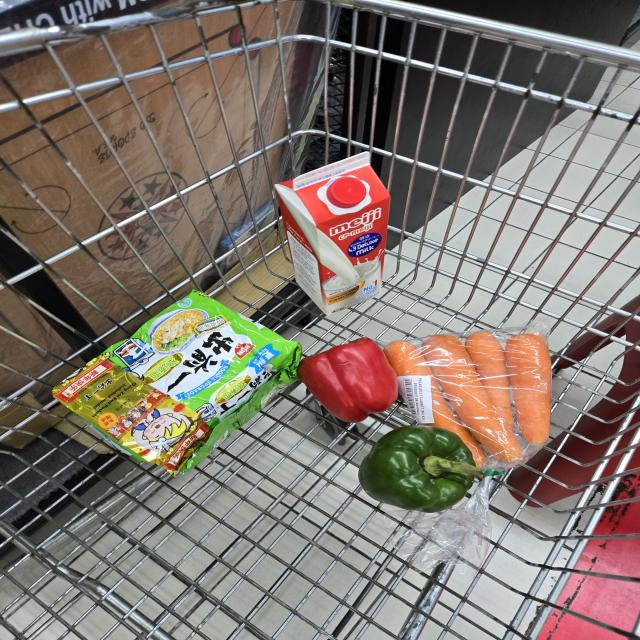bell-pepper: (346, 423, 482, 513), (303, 329, 404, 427)
carrot: (370, 333, 484, 471), (421, 334, 528, 466), (510, 333, 561, 453), (465, 329, 520, 439)
instant-noodle: (52, 286, 310, 484)
milk: (270, 149, 401, 317)
